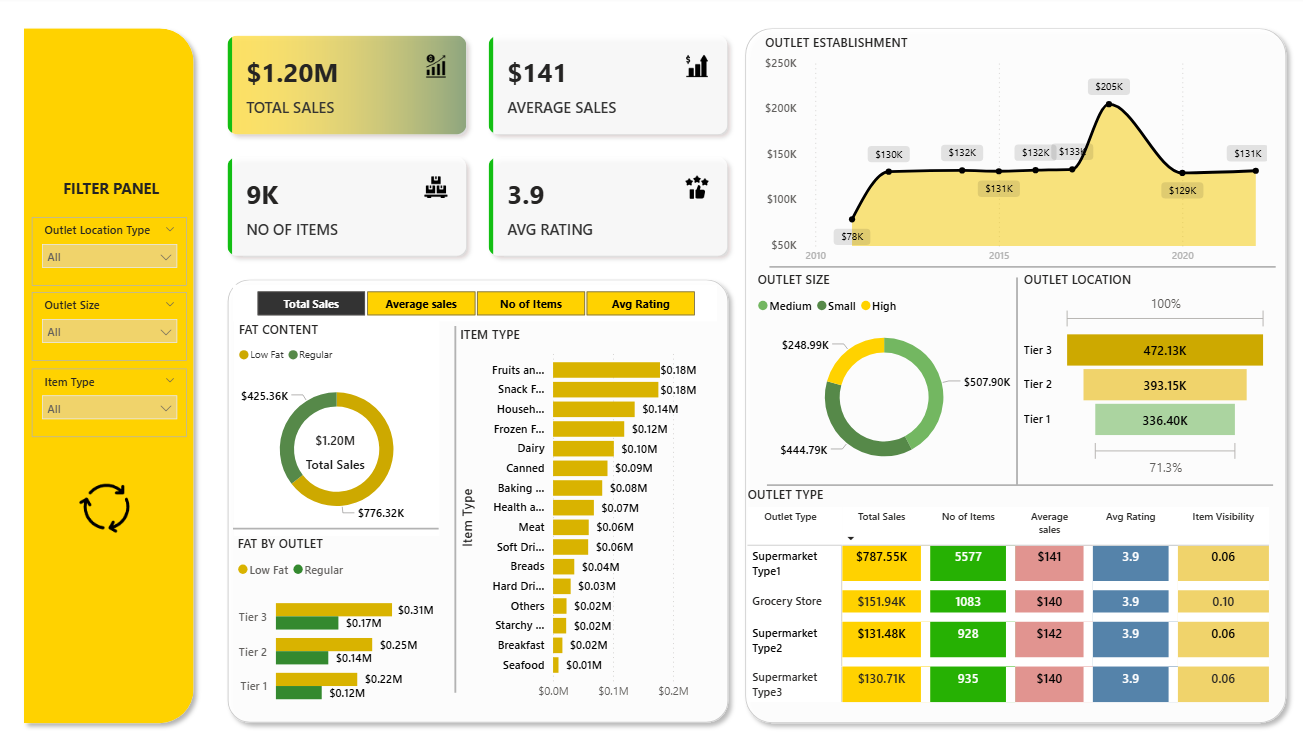

This screenshot's page, from the dashboard's own definition file:
{"tool":"powerbi","page":{"name":"Page 1","canvas":[1400,800],"ordinal":0},"visuals":[{"type":"shape","box":[18.3,25,200,763.3],"z":0},{"type":"textbox","box":[36,51,166.6,78],"z":1000},{"type":"textbox","box":[18.6,111.4,200,32.9],"z":2000},{"type":"cardVisual","fields":{"Data":["BlinkIT Grocery Data.Total Sales","BlinkIT Grocery Data.Average sales","BlinkIT Grocery Data.No of Items","BlinkIT Grocery Data.Avg Rating"]},"box":[228.6,25.7,570,270],"z":3000},{"type":"shape","box":[236.7,295,555,493.3],"z":4000},{"type":"donutChart","title":"FAT CONTENT","fields":{"Y":["BlinkIT Grocery Data.Total Sales"],"Category":["BlinkIT Grocery Data.Item Fat Content"]},"box":[252.9,348.6,220,230],"z":5000},{"type":"slicer","fields":{"Values":["Metrics.Metrics"]},"box":[252.1,309.2,519.3,39],"z":6000},{"type":"cardVisual","fields":{"Data":["BlinkIT Grocery Data.Total Sales"]},"box":[304.3,450,115.7,68.6],"z":7000},{"type":"clusteredBarChart","title":"FAT BY OUTLET","fields":{"Y":["BlinkIT Grocery Data.Total Sales"],"Category":["BlinkIT Grocery Data.Outlet Location Type"],"Series":["BlinkIT Grocery Data.Item Fat Content"]},"box":[252.1,577.8,220.6,198.1],"z":8000},{"type":"shape","box":[252.1,550.8,220.6,40.5],"z":9000},{"type":"shape","box":[472.8,354.2,34.5,393.2],"z":10000},{"type":"barChart","title":"ITEM TYPE","fields":{"Y":["BlinkIT Grocery Data.Total Sales"],"Category":["BlinkIT Grocery Data.Item Type"]},"box":[490.8,354.2,280.7,409.7],"z":11000},{"type":"shape","box":[791.7,25,598.3,763.3],"z":12000},{"type":"lineChart","title":"OUTLET ESTABLISHMENT","fields":{"Category":["BlinkIT Grocery Data.Outlet Establishment Year"],"Y":["BlinkIT Grocery Data.Total Sales"]},"box":[818.3,40,548.3,255],"z":13000},{"type":"shape","box":[826.7,285,543.3,10],"z":14000},{"type":"donutChart","title":"OUTLET SIZE","fields":{"Y":["BlinkIT Grocery Data.Total Sales"],"Category":["BlinkIT Grocery Data.Outlet Size"]},"box":[810,295,281.7,225],"z":15000},{"type":"shape","box":[1085,301.7,16.7,223.3],"z":16000},{"type":"funnel","title":"OUTLET LOCATION","fields":{"Y":["Sum(BlinkIT Grocery Data.Sales)"],"Category":["BlinkIT Grocery Data.Outlet Location Type"]},"box":[1095,295,271.7,226.7],"z":17000},{"type":"shape","box":[825,518.3,543.3,11.7],"z":18000},{"type":"pivotTable","title":"OUTLET TYPE","fields":{"Values":["BlinkIT Grocery Data.Total Sales","BlinkIT Grocery Data.No of Items","BlinkIT Grocery Data.Average sales","BlinkIT Grocery Data.Avg Rating","Avg(BlinkIT Grocery Data.Item Visibility)"],"Rows":["BlinkIT Grocery Data.Outlet Type"]},"box":[798.3,525,571.7,251.7],"z":19000},{"type":"slicer","fields":{"Values":["BlinkIT Grocery Data.Outlet Location Type"]},"box":[36.7,236.7,166.7,73.3],"z":20000},{"type":"slicer","fields":{"Values":["BlinkIT Grocery Data.Outlet Size"]},"box":[36.7,318.3,166.7,73.3],"z":21000},{"type":"slicer","fields":{"Values":["BlinkIT Grocery Data.Item Type"]},"box":[36.7,400,166.7,73.3],"z":22000},{"type":"textbox","box":[51.7,190,138.3,31.7],"z":23000},{"type":"image","title":"CLEAR","box":[71.7,506.7,88.3,83.3],"z":24000}]}

Visuals, with their boxes in screenshot pixels (x1, y1, x2, y2), scaled from the page's 1400x800 canvas onto the 1303x742 screenshot:
shape: crop(17, 23, 203, 731)
textbox: crop(34, 47, 189, 120)
textbox: crop(17, 103, 203, 134)
cardVisual - BlinkIT Grocery Data.Total Sales x BlinkIT Grocery Data.Average sales: crop(213, 24, 743, 274)
shape: crop(220, 274, 737, 731)
"FAT CONTENT" donutChart: crop(235, 323, 440, 537)
slicer - Metrics.Metrics: crop(235, 287, 718, 323)
cardVisual - BlinkIT Grocery Data.Total Sales: crop(283, 417, 391, 481)
"FAT BY OUTLET" clusteredBarChart: crop(235, 536, 440, 720)
shape: crop(235, 511, 440, 548)
shape: crop(440, 329, 472, 693)
"ITEM TYPE" barChart: crop(457, 329, 718, 709)
shape: crop(737, 23, 1294, 731)
"OUTLET ESTABLISHMENT" lineChart: crop(762, 37, 1272, 274)
shape: crop(769, 264, 1275, 274)
"OUTLET SIZE" donutChart: crop(754, 274, 1016, 482)
shape: crop(1010, 280, 1025, 487)
"OUTLET LOCATION" funnel: crop(1019, 274, 1272, 484)
shape: crop(768, 481, 1273, 492)
"OUTLET TYPE" pivotTable: crop(743, 487, 1275, 720)
slicer - BlinkIT Grocery Data.Outlet Location Type: crop(34, 220, 189, 288)
slicer - BlinkIT Grocery Data.Outlet Size: crop(34, 295, 189, 363)
slicer - BlinkIT Grocery Data.Item Type: crop(34, 371, 189, 439)
textbox: crop(48, 176, 177, 206)
"CLEAR" image: crop(67, 470, 149, 547)
